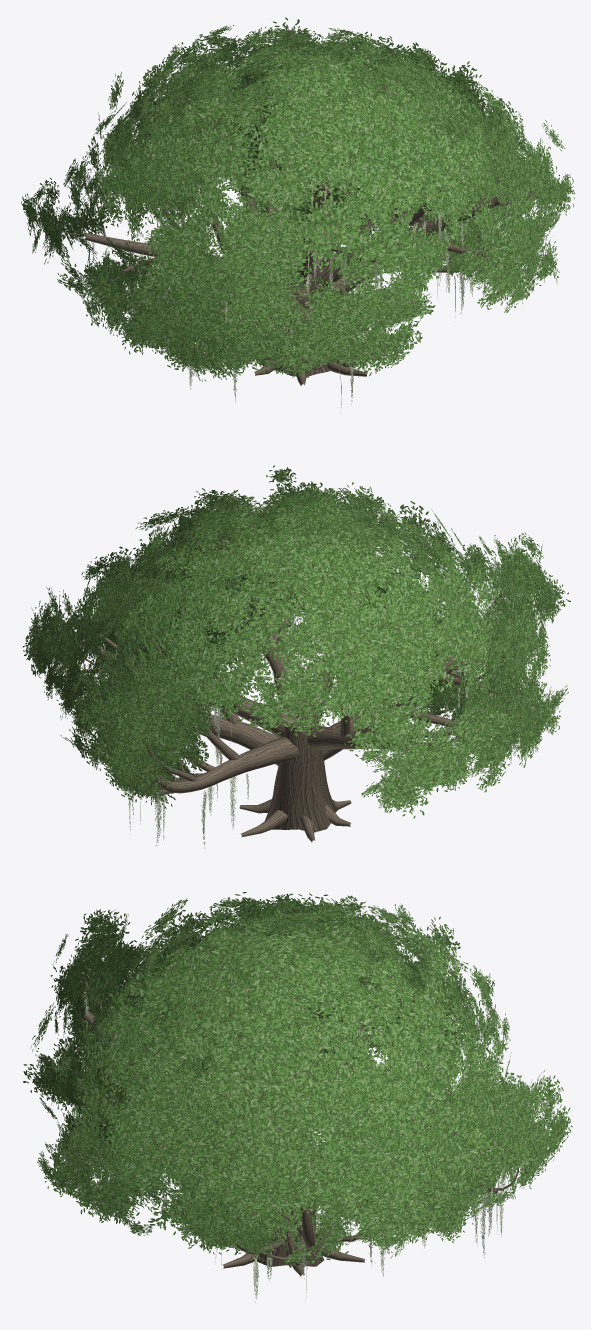
File: live-oak.glb
The picture shows the model from 3 angles, top to bottom: view 1: azimuth 30°, elevation 25°; view 2: azimuth 150°, elevation 25°; view 3: azimuth 270°, elevation 25°; orthographic projection. The views are drawn at different scales.
Visible parts, largest first — view 1: Canopy, Bark, SpanishMoss; view 2: Canopy, Bark, SpanishMoss; view 3: Canopy, Bark, SpanishMoss.
Part boxes in pixels (x1,y1,x2,y2): Canopy: [21, 17, 575, 381]; Bark: [54, 81, 539, 385]; SpanishMoss: [88, 139, 510, 407]; Canopy: [22, 465, 570, 818]; Bark: [53, 537, 537, 842]; SpanishMoss: [65, 592, 514, 848]; Canopy: [23, 892, 572, 1267]; Bark: [64, 951, 530, 1276]; SpanishMoss: [83, 986, 507, 1302].
Size of the model in its own units: 12.95 by 8.54 by 12.81.
2 materials, 2 textured.
